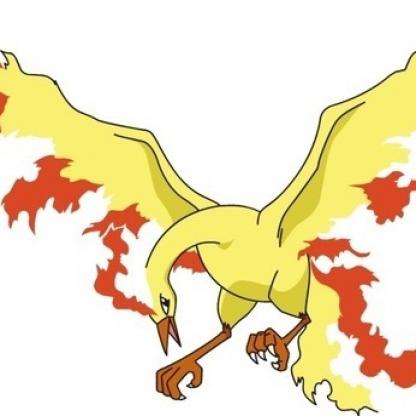Moltres: (1, 50, 416, 410), (1, 58, 416, 416)
